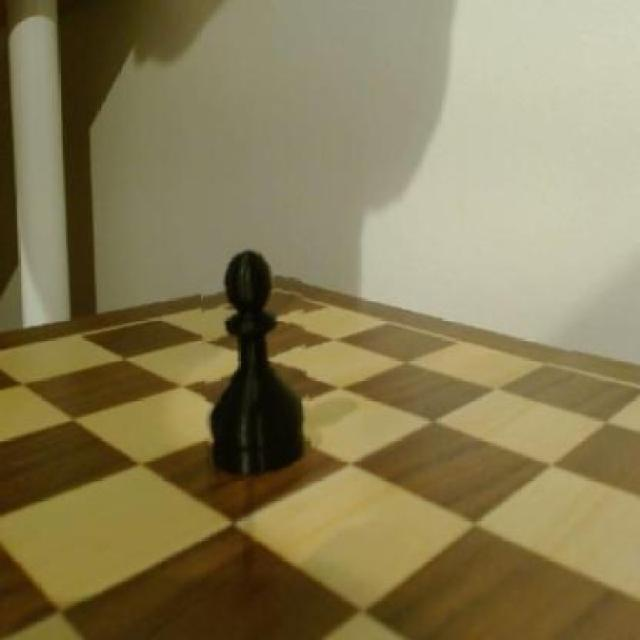black-knight: (202, 240, 310, 482)
